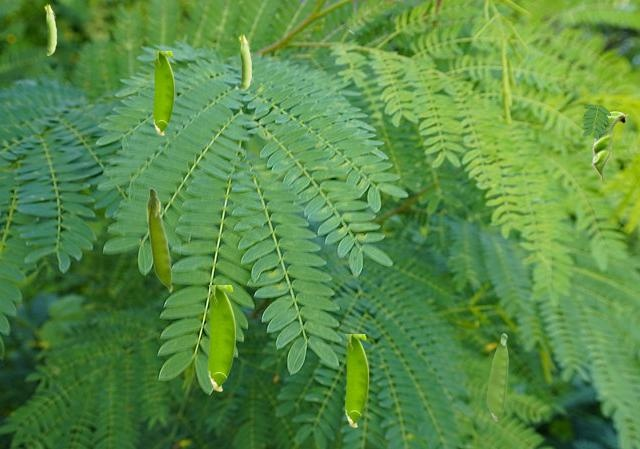pea: (208, 285, 234, 390), (146, 187, 172, 292), (591, 111, 627, 180), (345, 334, 367, 426), (487, 333, 507, 420), (153, 51, 173, 134), (238, 33, 250, 89), (44, 3, 55, 54)
